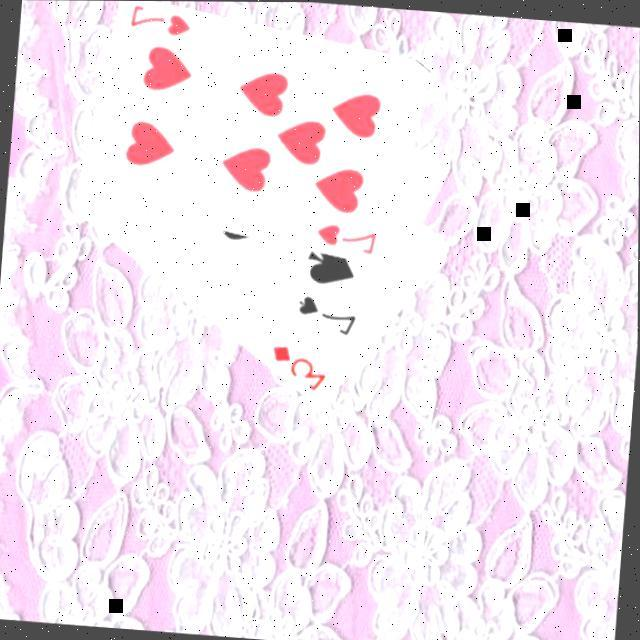3D: (266, 338, 331, 392)
7H: (310, 217, 380, 255), (125, 1, 193, 38)
7S: (292, 290, 360, 338)
